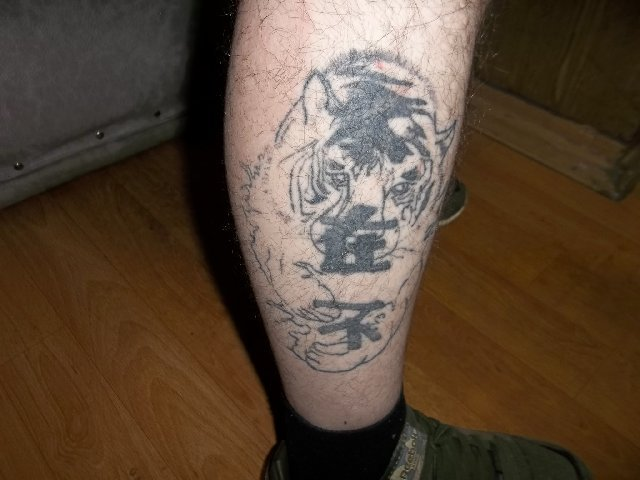tatu5_tigr: (221, 18, 462, 398)
